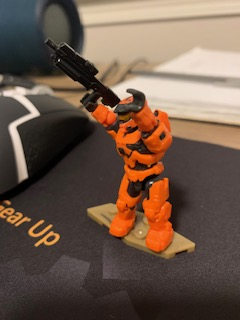rifle: (40, 34, 121, 112)
spartan: (81, 86, 179, 255)
up: (79, 87, 172, 168)
